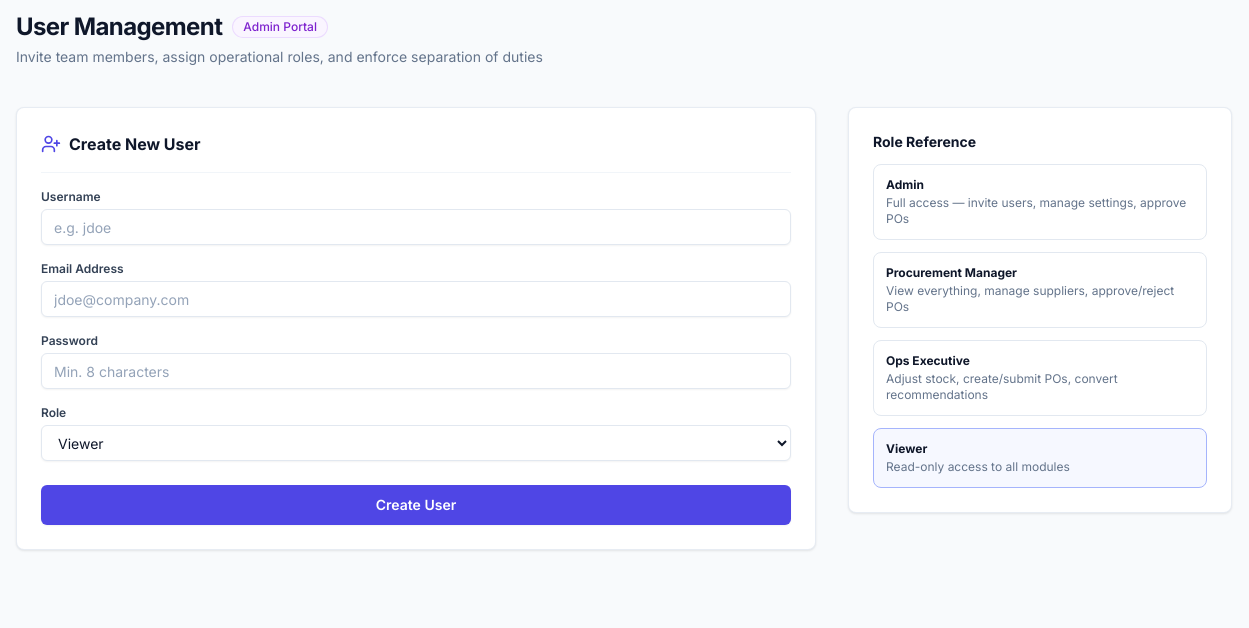
Test: AdminUserManagementPage › Form Validation › should show error for empty username
Click the button "Create User" at point(416, 505), box [41,485,791,525]
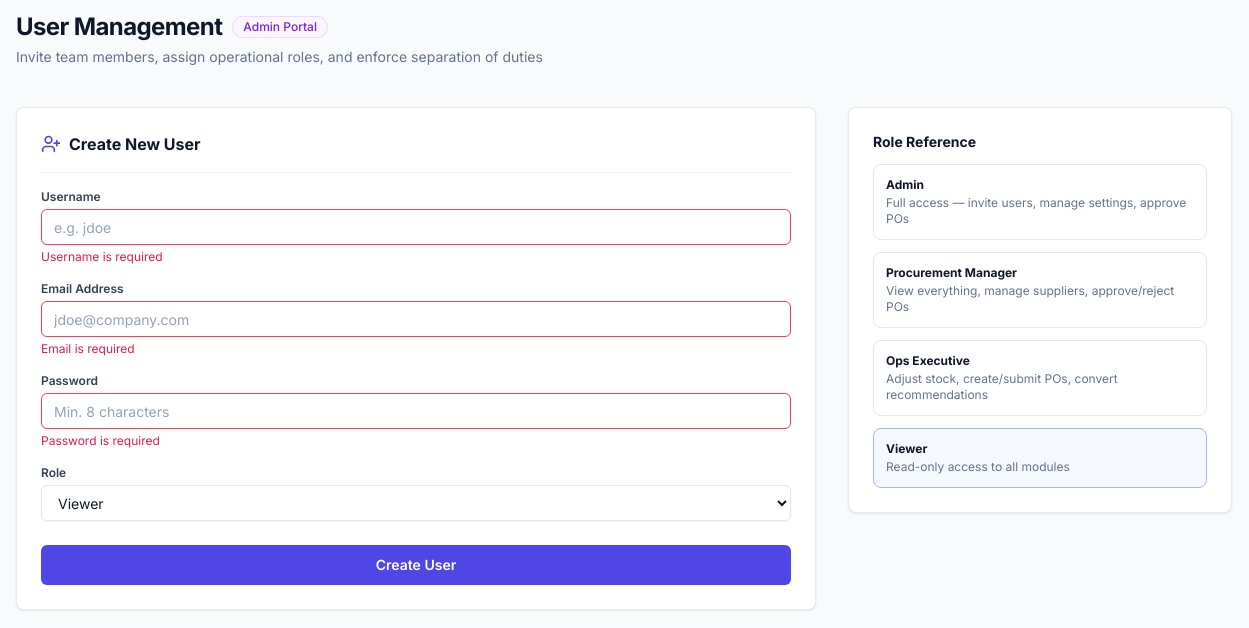
Expected: the text "Username is required" is shown, [41,249,163,264]
